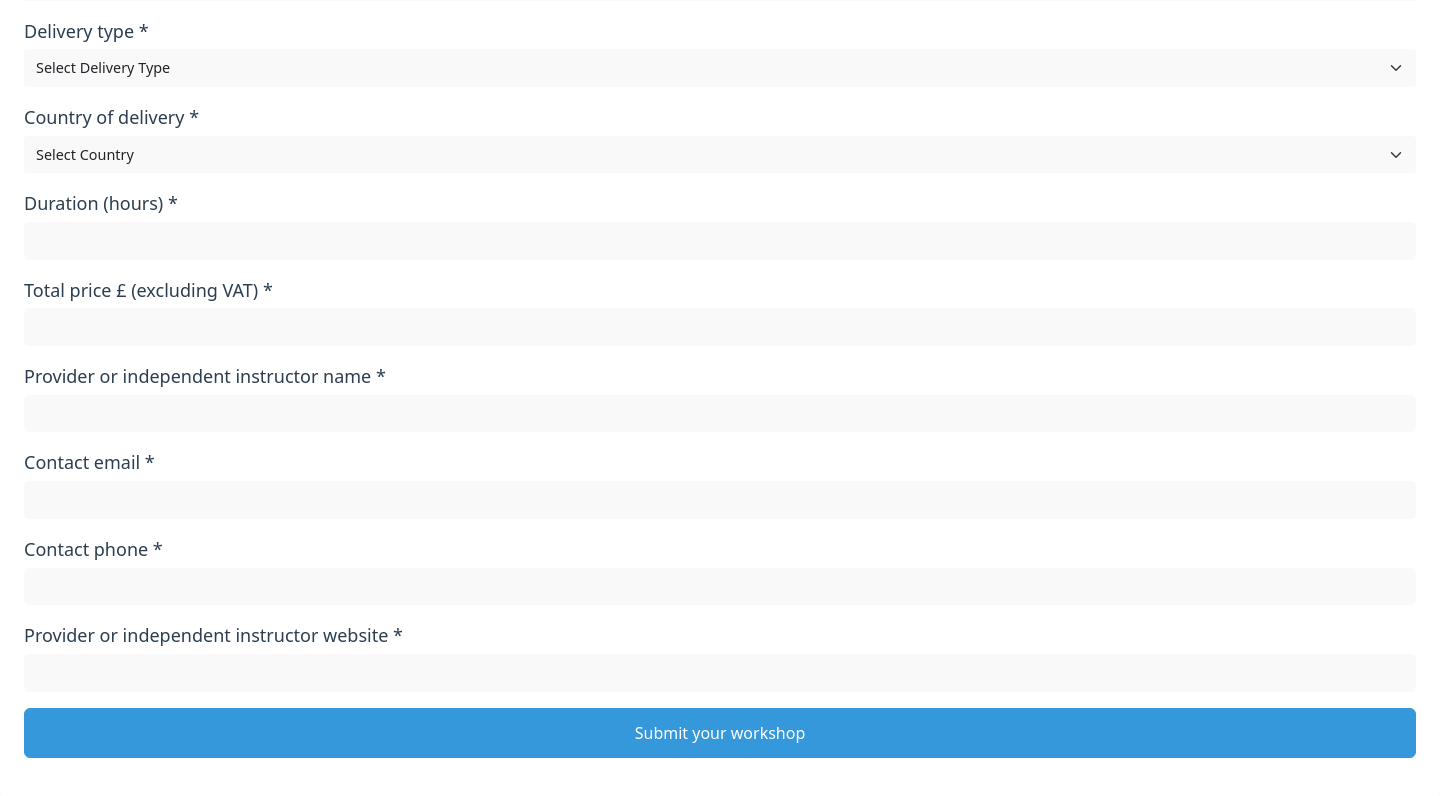
CourseSubmissionForm Component › shows validation errors when form is submitted empty
This screenshot has width=1440, height=796.
(page scrolled)
Click the button "Submit your workshop" at (720, 733), box [24,708,1416,758]
(page scrolled)
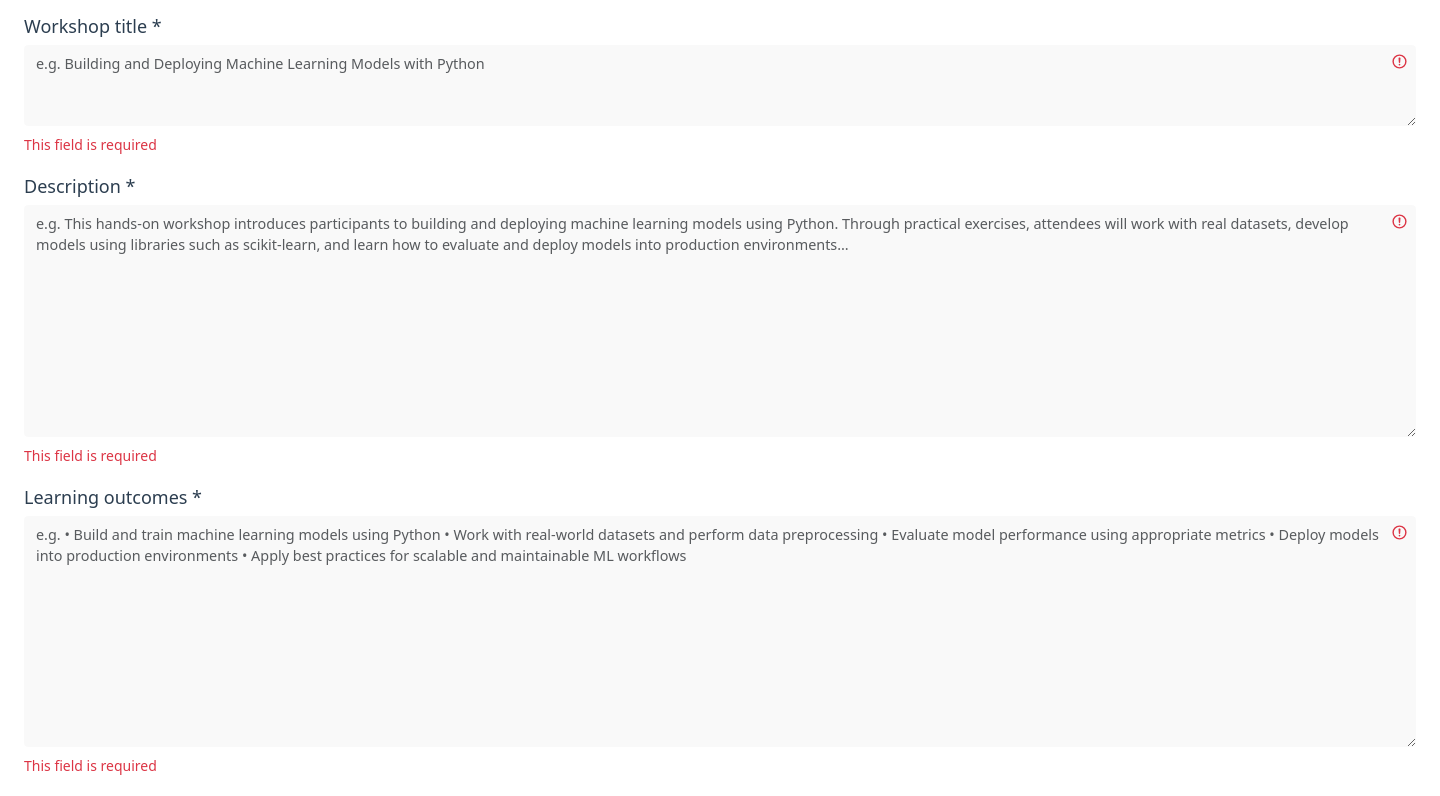
Check: the text "This field is required" below "Workshop title *" is shown, box [24,134,157,154]
